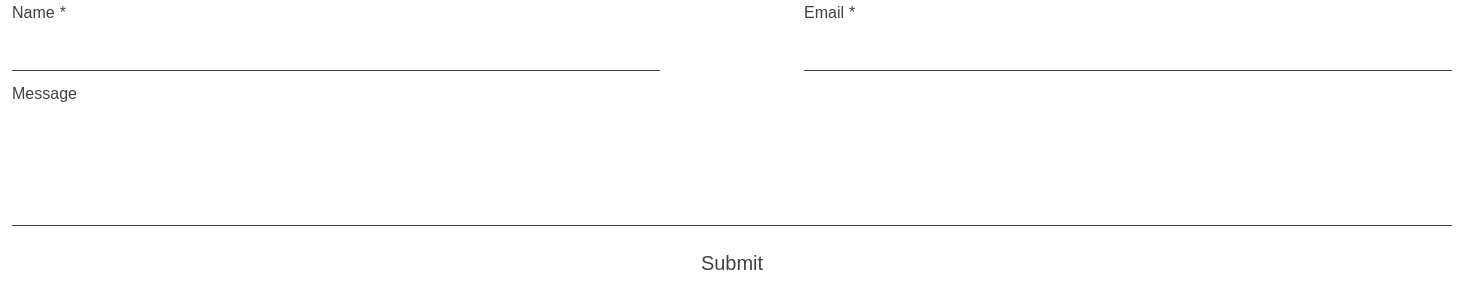
it: ContactForm data entry capability › user is able to enter email in ContactForm
Click the field labelled "Email*". click: [1128, 48]
box: 804,26 -> 1452,71
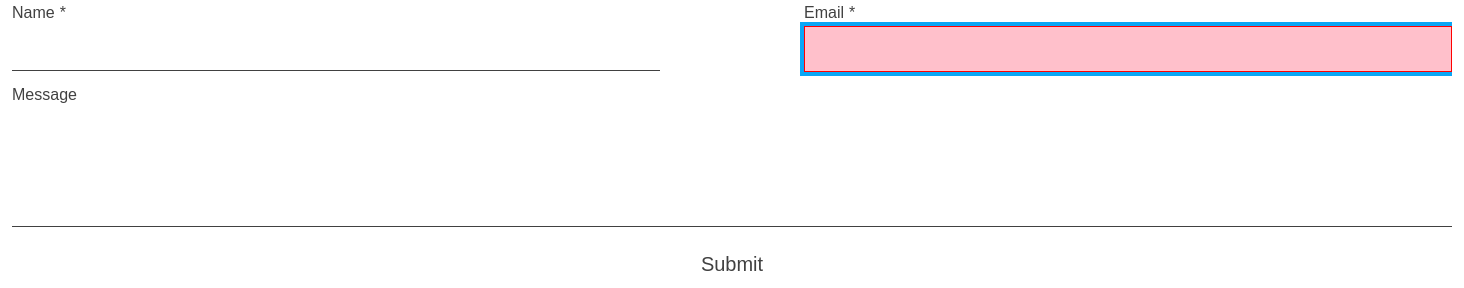
Type keys "jane@jane.com"
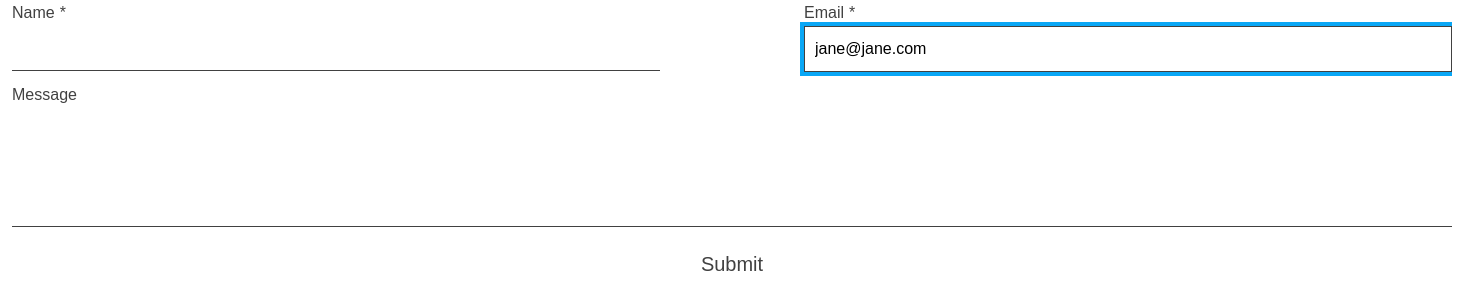
Result: the field labelled "Email*" holds "jane@jane.com" at 804,26 -> 1452,72
